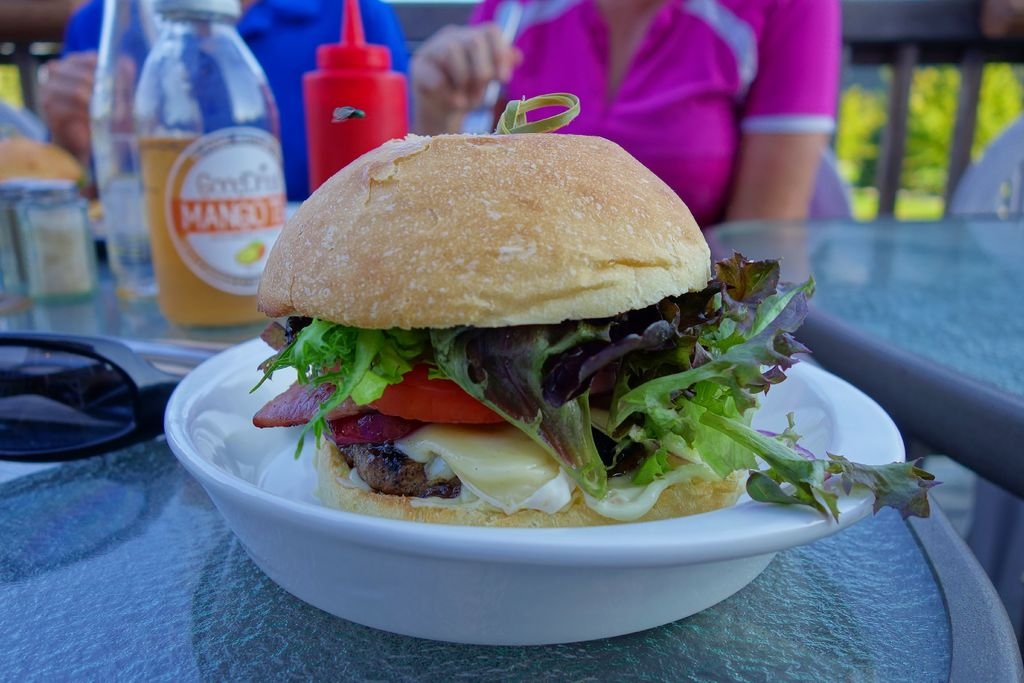Hamburger: (252, 129, 942, 529)
